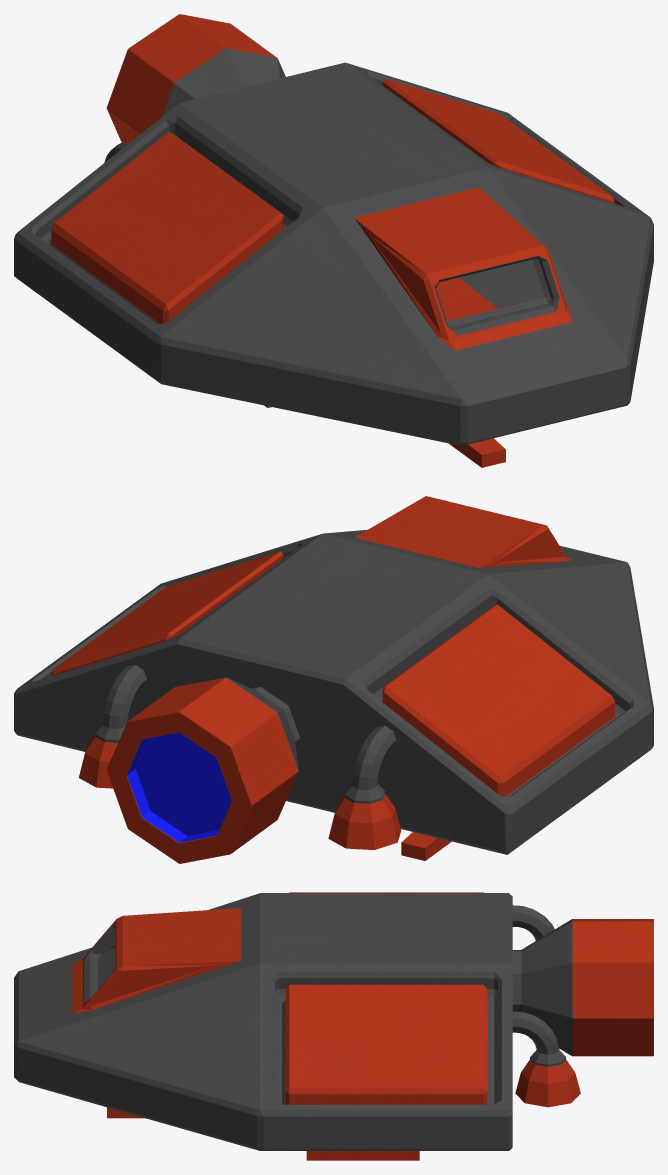
File: Ship.obj
3 renders of one model, top to bottom at view 1: azimuth 30°, elevation 25°; view 2: azimuth 150°, elevation 25°; view 3: azimuth 270°, elevation 25°, orthographic. The views are drawn at different scales.
Parts seen in each view (by area): view 1: RocketShip; view 2: RocketShip; view 3: RocketShip.
Boxes of the visible parts, x1,y1,x2,y2 form: RocketShip: (14, 14, 653, 467); RocketShip: (14, 496, 653, 863); RocketShip: (14, 892, 653, 1160).
Size of the model in its own units: 0.3024 by 0.1283 by 0.3879.
Materials: 1 (1 with a texture image).
